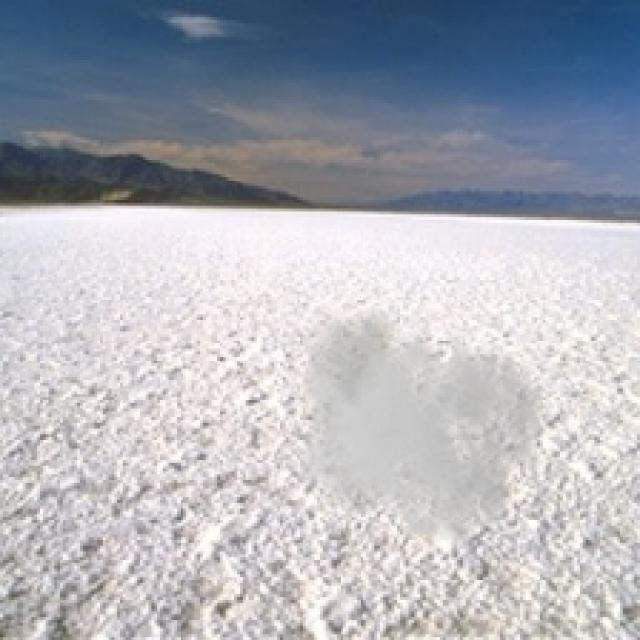smoke: (288, 303, 546, 551)
